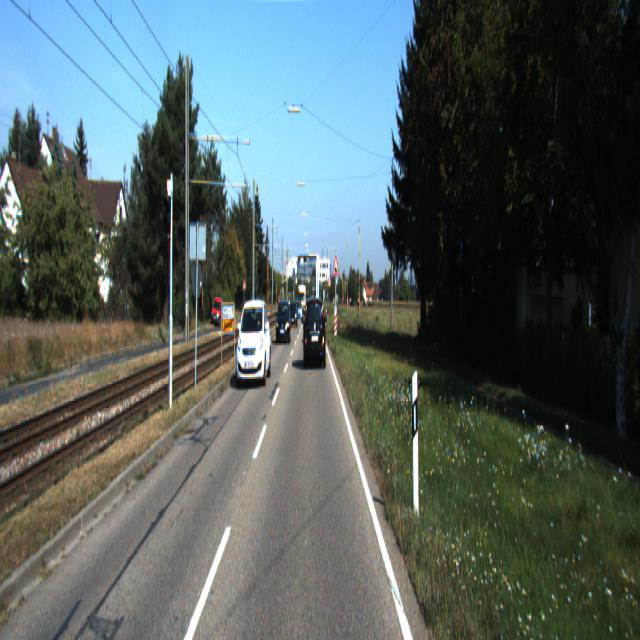Car: (236, 301, 272, 392), (304, 294, 326, 370), (276, 302, 291, 347), (288, 300, 298, 328)
